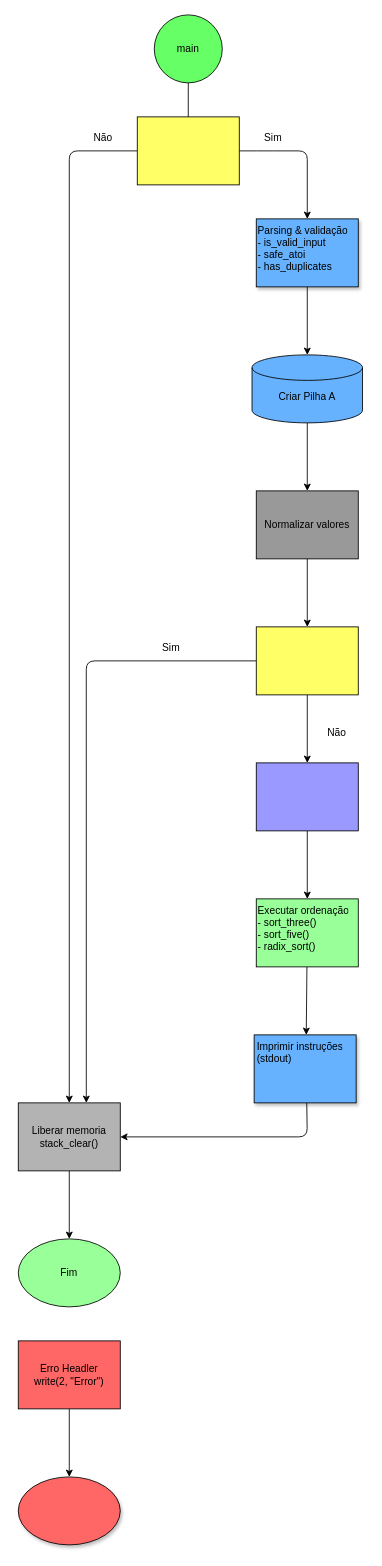
Some shapes in this 382 by 1566 pixel diagram are drawn without their labels. The centre of each missing label's shape, as x and y in pixels:
"argc >= 2?" goes at [187,150].
"EScolher Algoriitmo - size == 2? - size == 3? - size <= 5? - size > 5?" goes at [306,796].
"Exit(1)" goes at [69,1512].
"is_sorted()?" goes at [306,660].
